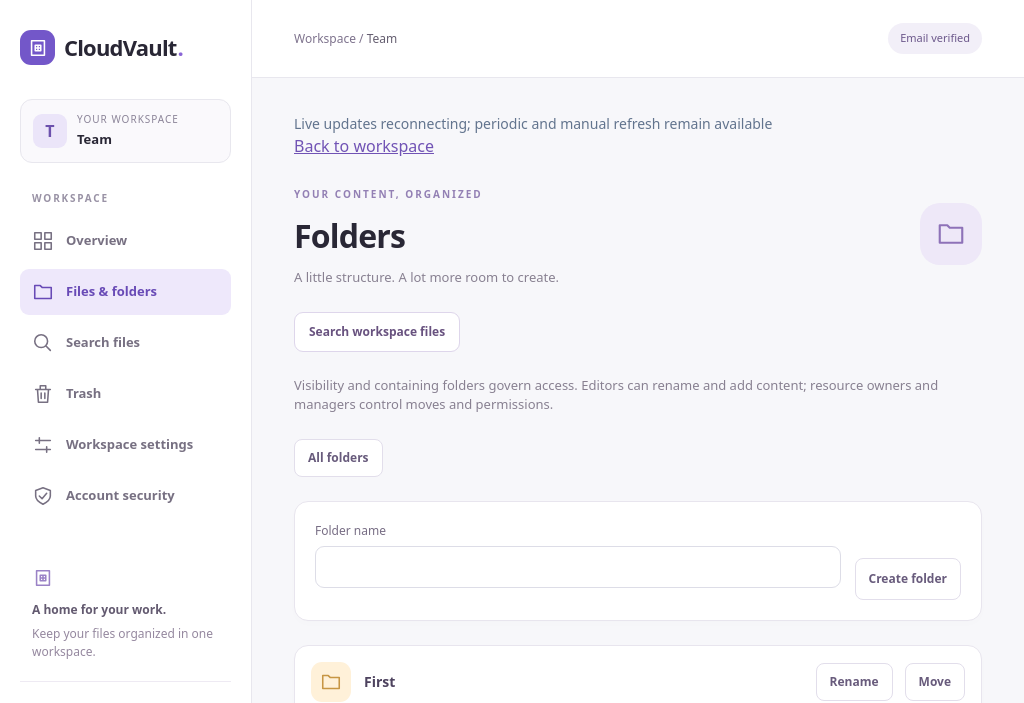
Folder browser › keeps a server name conflict visible and retains the entered name
Step 1. Type "First" into the field labelled "Folder name" → [578, 566], box 315,546 -> 840,588
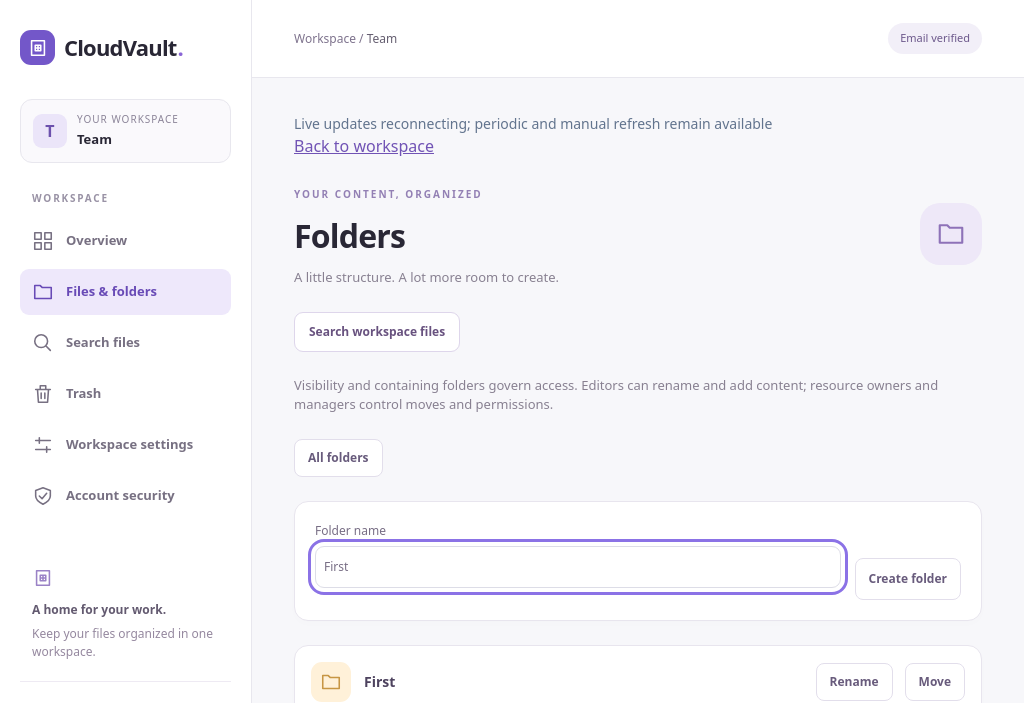
Step 2. Click the button "Create folder" → [908, 578], box 854,558 -> 961,600
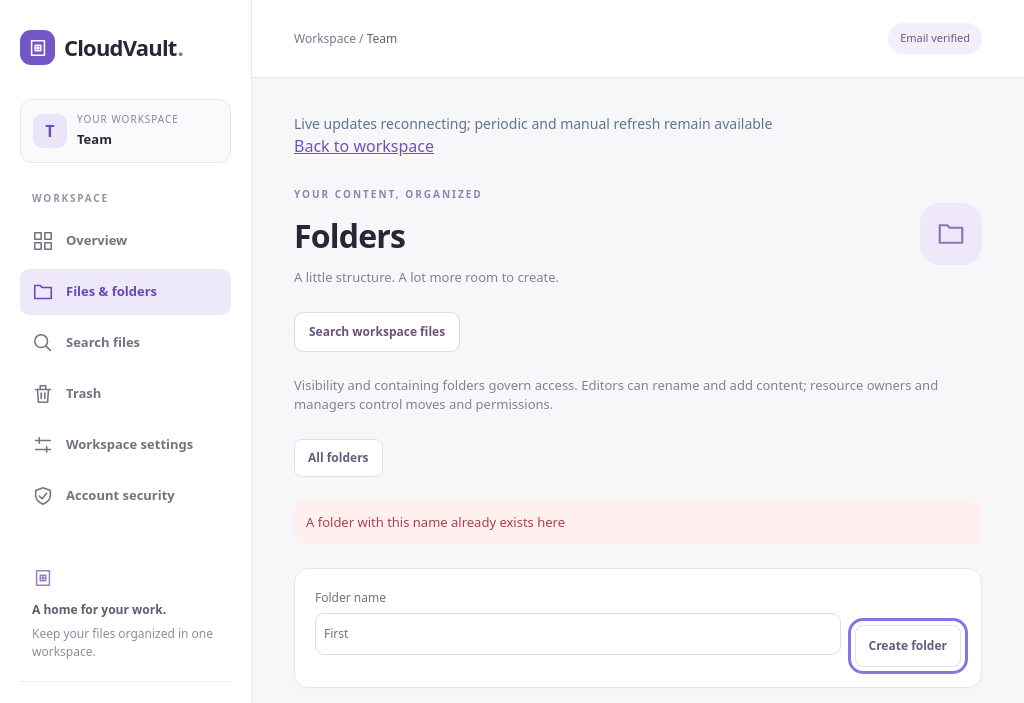
Result: the message shows "already exists" at 306,512 -> 565,530
